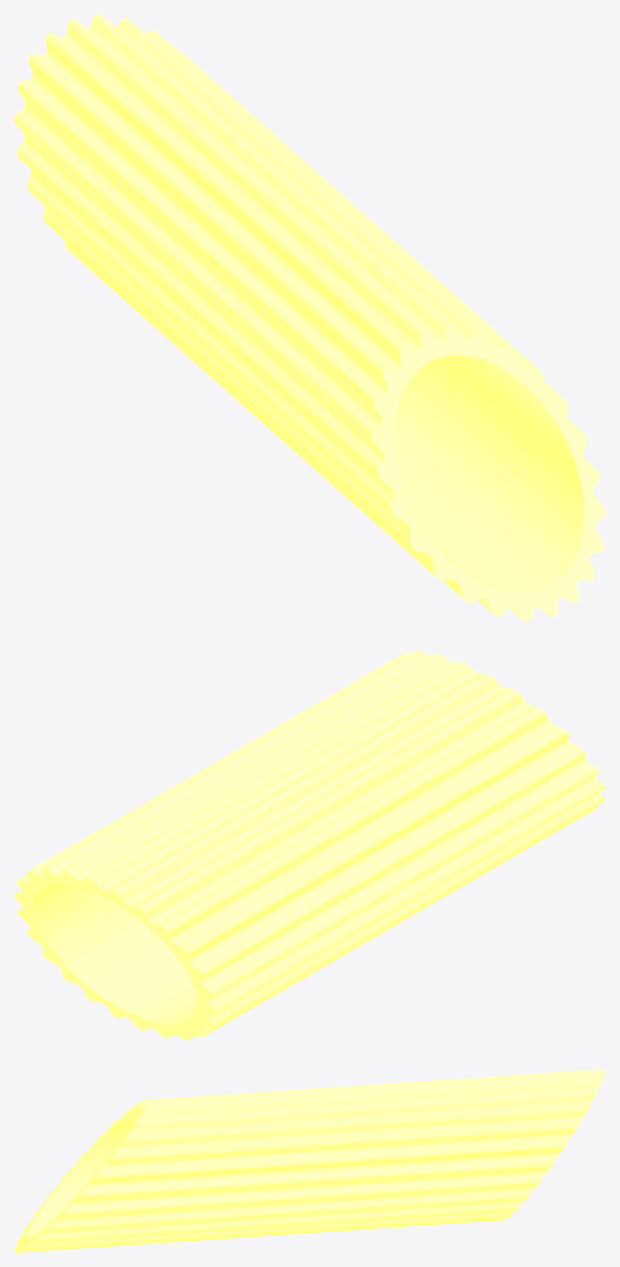
File: Penne.001.gltf
3 views of the same model, one above another, from view 1: azimuth 30°, elevation 25°; view 2: azimuth 150°, elevation 25°; view 3: azimuth 270°, elevation 25° (orthographic). The views are drawn at different scales.
Parts seen in each view (by area): view 1: Penne.001; view 2: Penne.001; view 3: Penne.001.
Part boxes in pixels (x1,y1,x2,y2): Penne.001: [14, 14, 605, 621]; Penne.001: [14, 650, 605, 1040]; Penne.001: [14, 1069, 605, 1252].
Size of the model in its own units: 0.8746 by 1.13 by 3.52.
